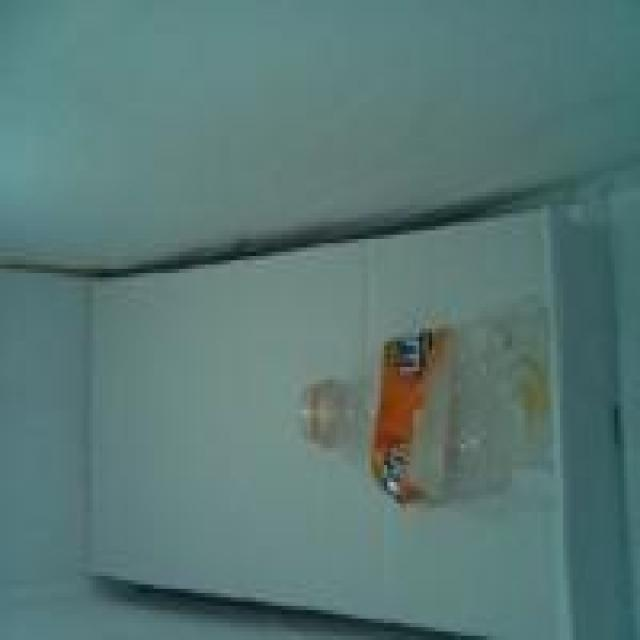bottle: (266, 292, 592, 528)
